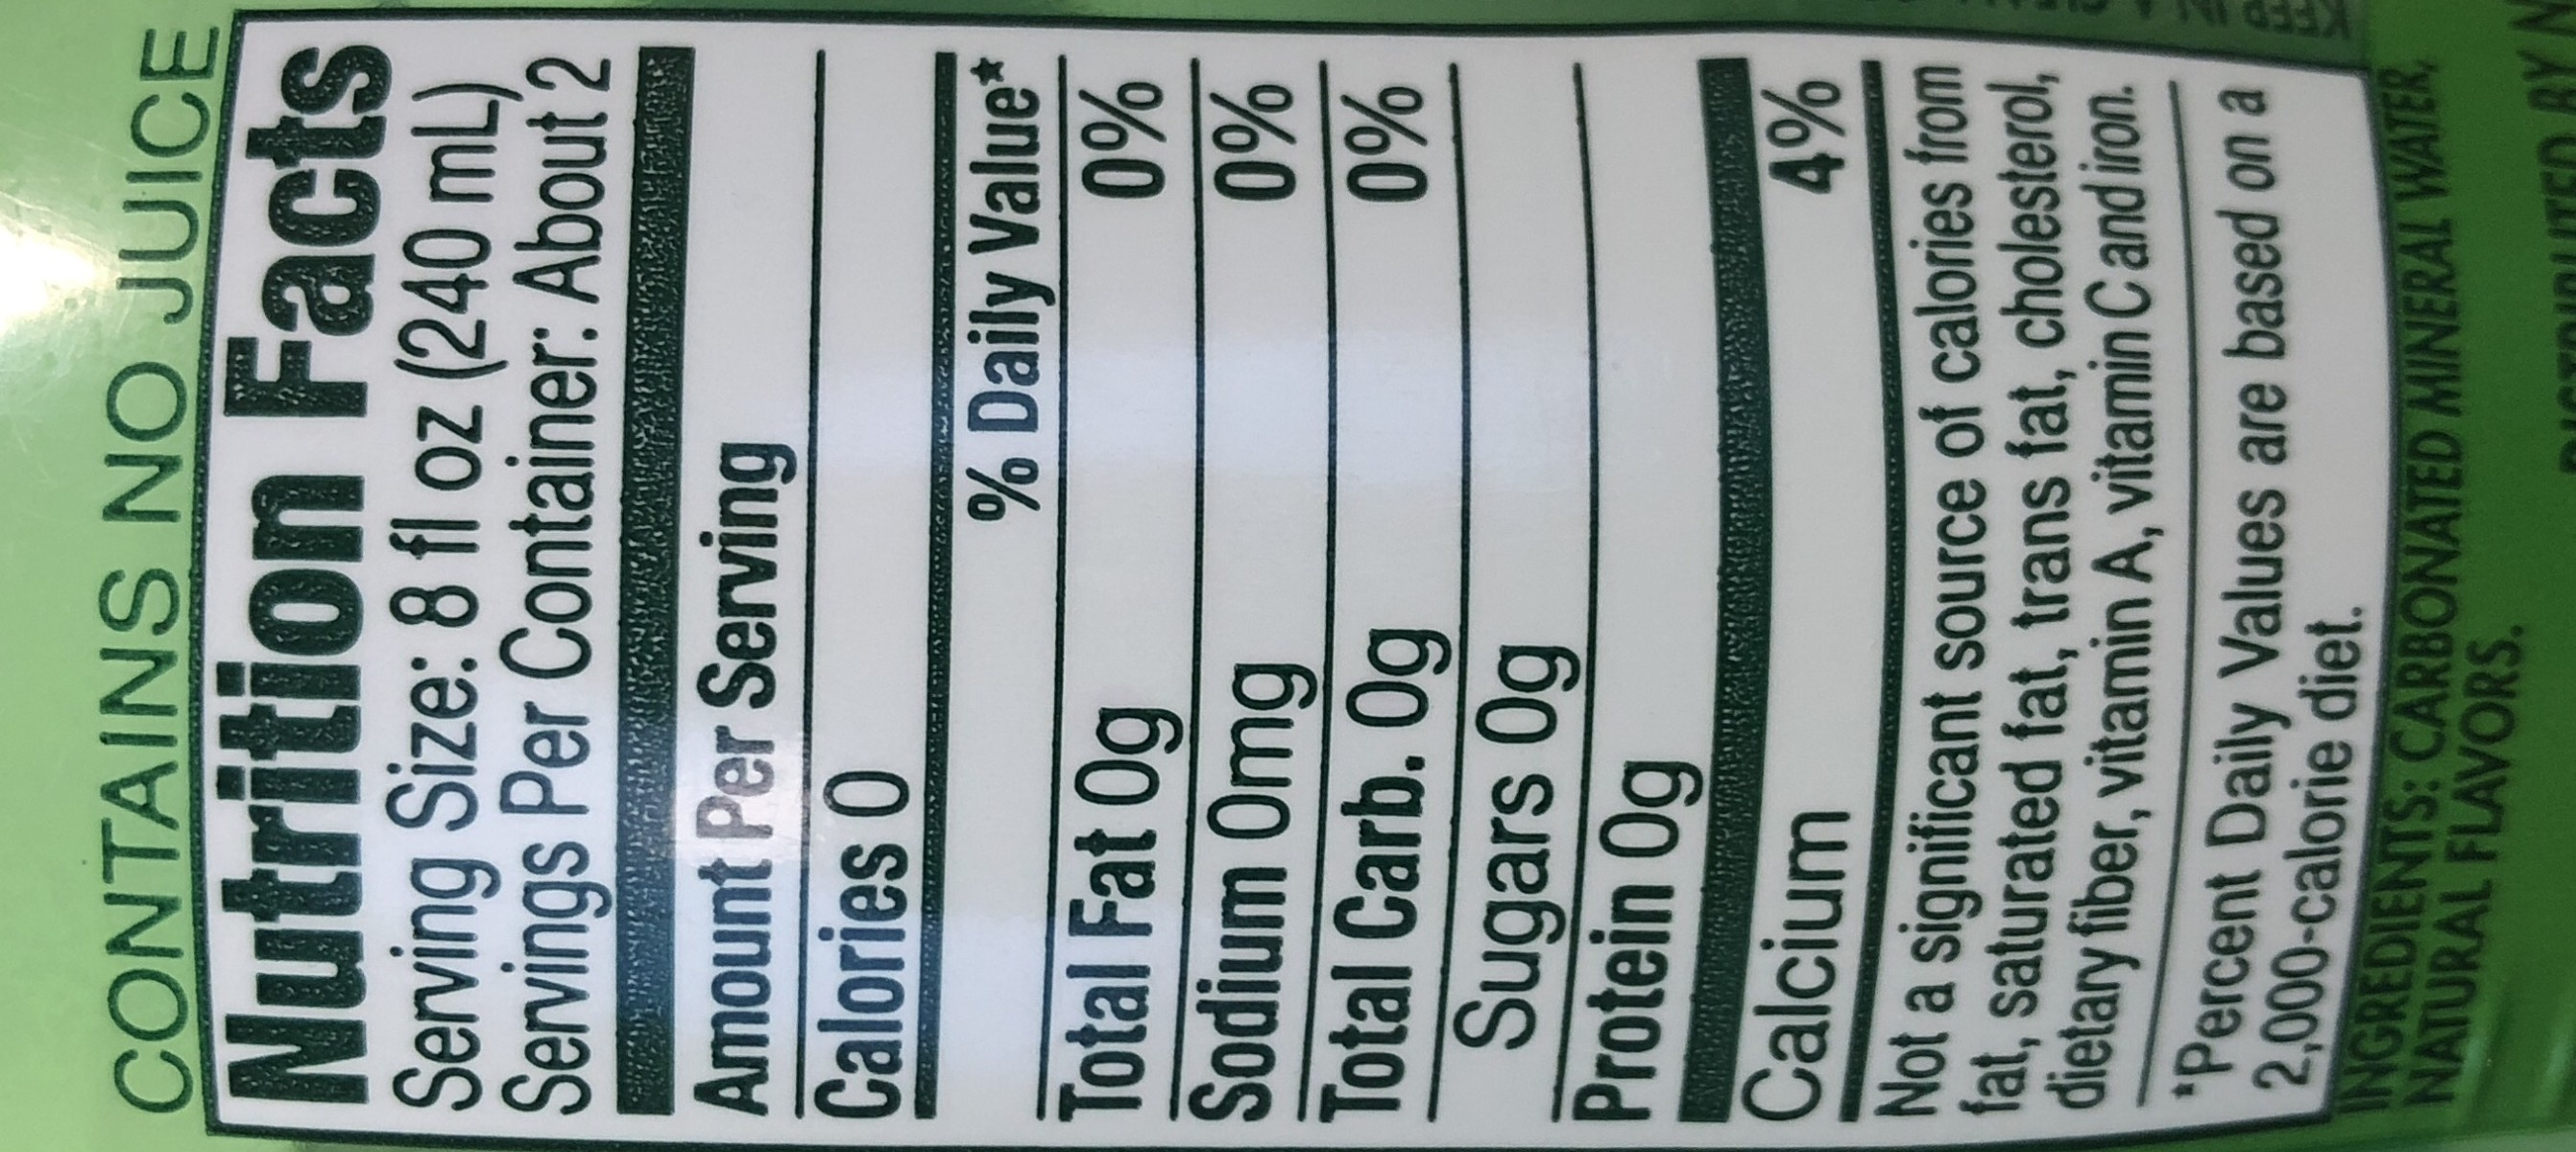ingredients: (2339, 30, 2548, 1117)
